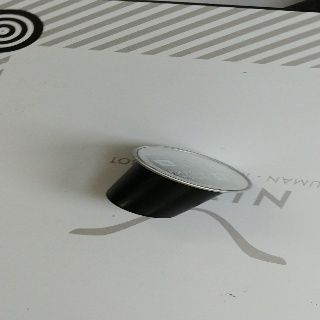capsule_10: (104, 144, 252, 218)
